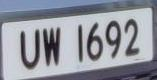1: (73, 18, 87, 70)
2: (122, 13, 143, 62)
6: (84, 16, 106, 67)
9: (104, 14, 124, 65)
U: (17, 24, 43, 75)
W: (40, 23, 66, 72)
